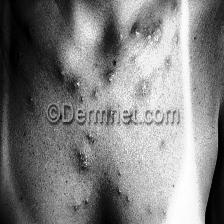Benign Marking or Mole: (146, 24, 164, 47), (80, 148, 89, 170), (73, 80, 81, 90), (134, 29, 140, 36), (108, 76, 113, 84)
